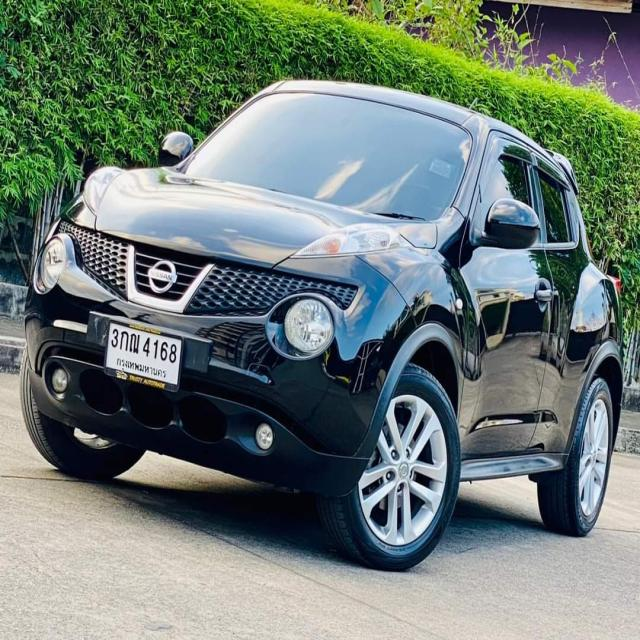license_plate: (106, 316, 183, 394)
